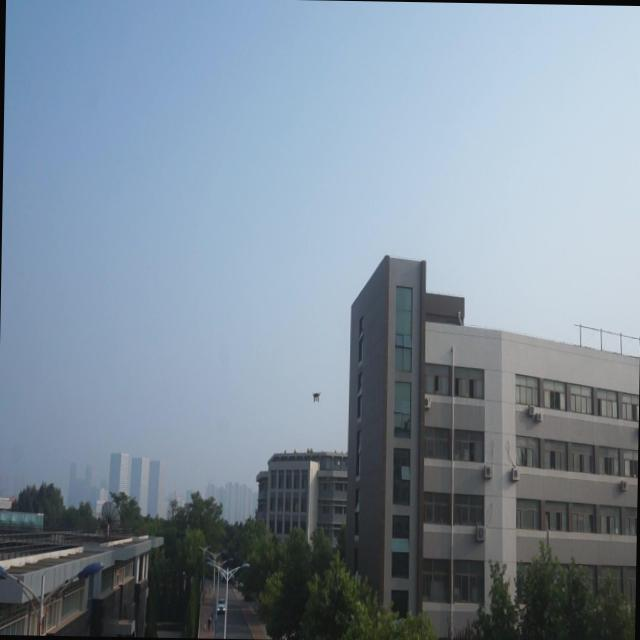drone: (310, 387, 322, 406)
